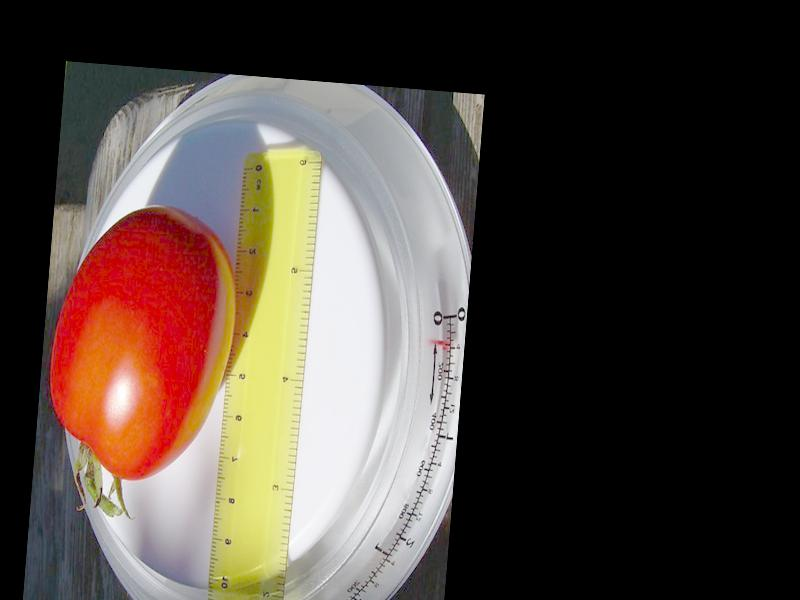Tomato: (40, 199, 247, 489)
